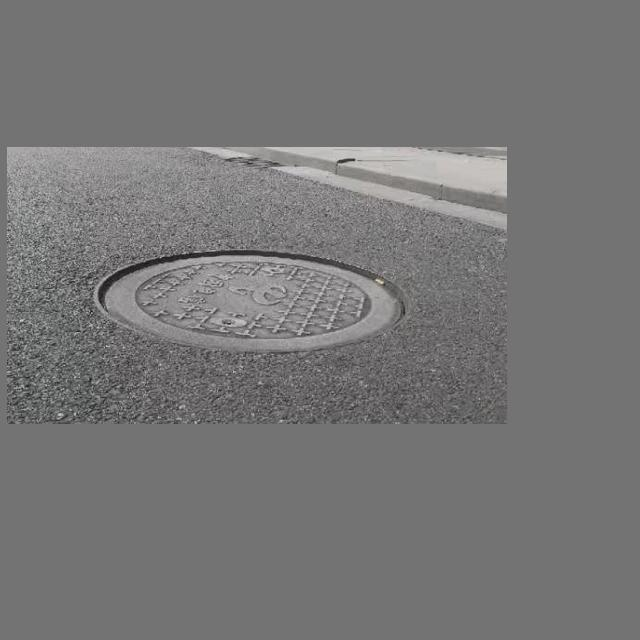good: (88, 241, 422, 365)
